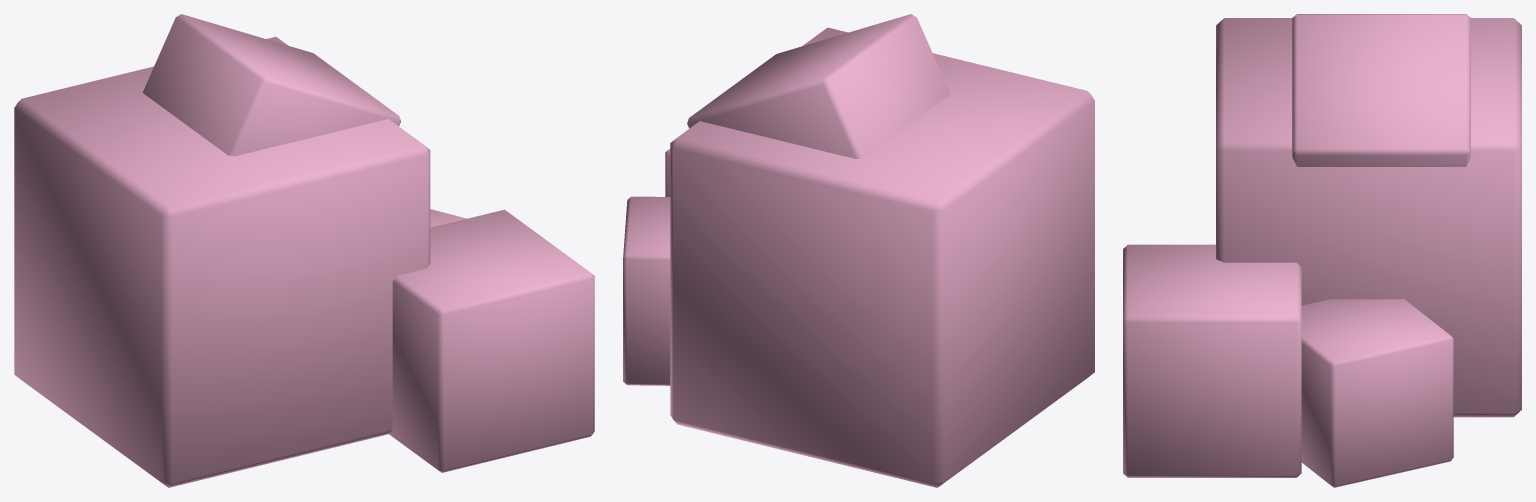
Rendered from bush-81_col.fbx.
3 renders of one model, left to right at view 1: azimuth 30°, elevation 25°; view 2: azimuth 150°, elevation 25°; view 3: azimuth 270°, elevation 25°, orthographic. The views are drawn at different scales.
Visible parts, largest first — view 1: bush-81.col; view 2: bush-81.col; view 3: bush-81.col.
Boxes of the visible parts, x1,y1,x2,y2 form: bush-81.col: (14,14,594,487); bush-81.col: (623,14,1094,487); bush-81.col: (1123,14,1521,487).
Size of the model in its own units: 0.2823 by 0.2391 by 0.2467.
Materials: 1 (1 with a texture image).
